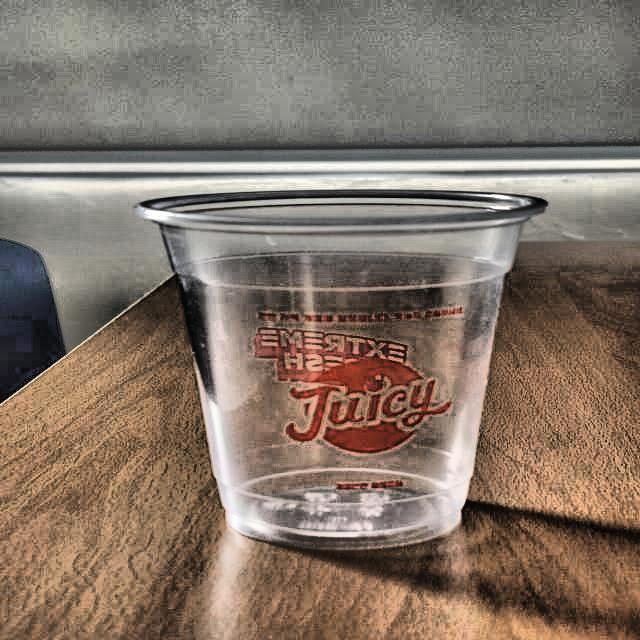plastic cup: (136, 188, 550, 550)
